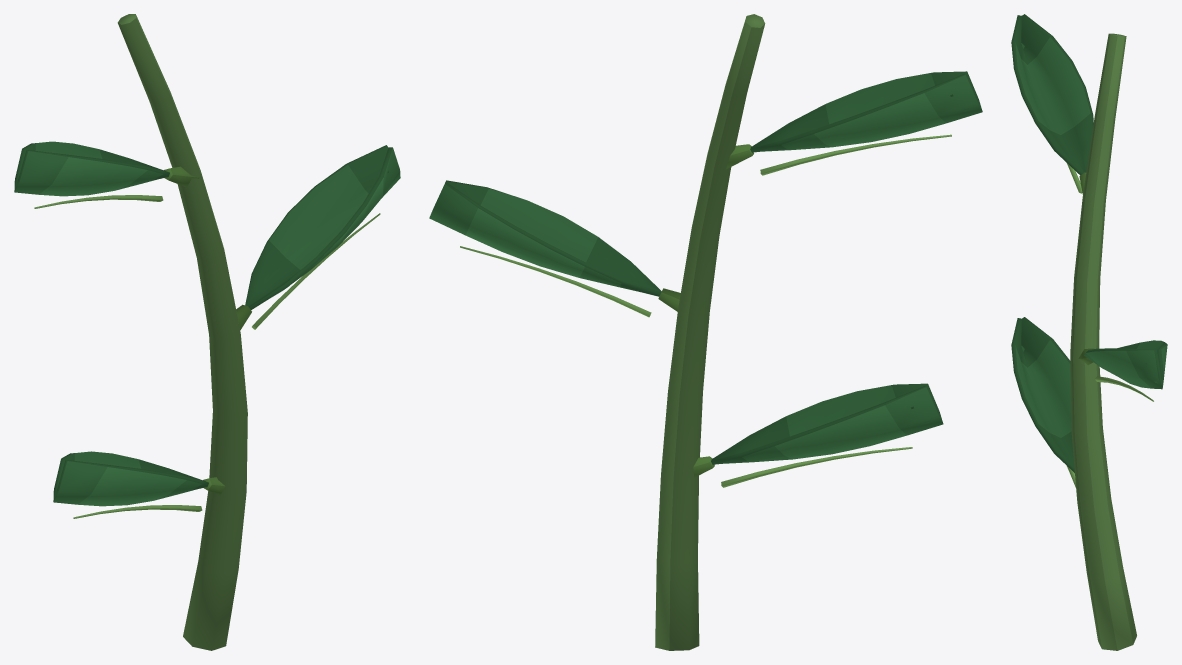
The model's file is garden-rose-leaves-stem-0.glb.
3 views of the same model, side by side, from view 1: azimuth 30°, elevation 25°; view 2: azimuth 150°, elevation 25°; view 3: azimuth 270°, elevation 25° (orthographic). The views are drawn at different scales.
Parts seen in each view (by area): view 1: rose-leaves-stem-0; view 2: rose-leaves-stem-0; view 3: rose-leaves-stem-0.
Boxes of the visible parts, <box> form: rose-leaves-stem-0: <box>14,14,400,650</box>; rose-leaves-stem-0: <box>429,14,982,650</box>; rose-leaves-stem-0: <box>1011,14,1167,650</box>.
Bounding box in the file's own units: 0.1663 × 0.2193 × 0.0538.
